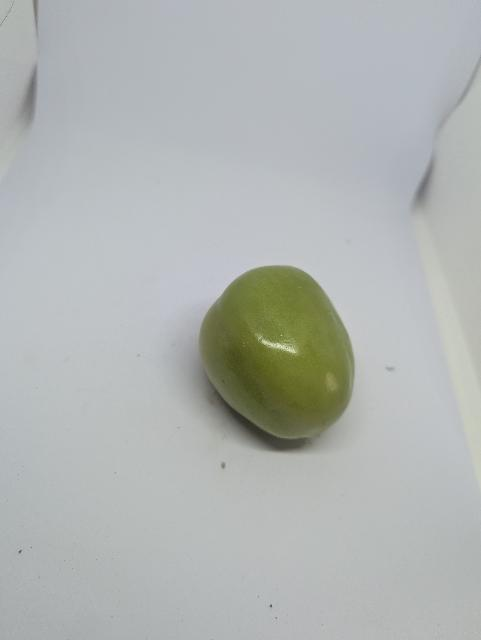green: (197, 262, 359, 441)
